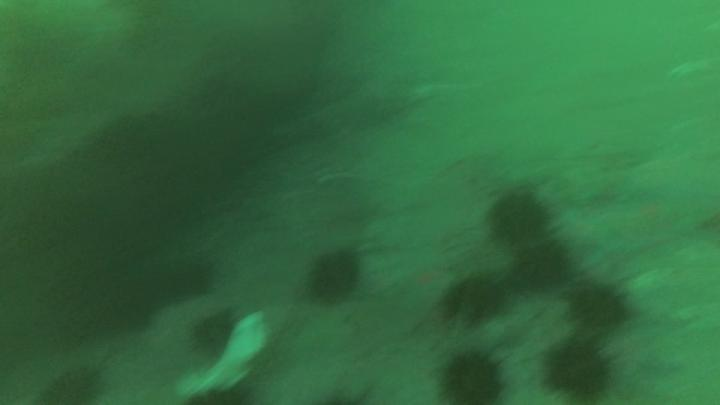echinus: (549, 347, 606, 405), (440, 280, 504, 326), (442, 355, 500, 405), (569, 283, 628, 330), (492, 197, 548, 246), (312, 253, 360, 304), (515, 245, 571, 287), (48, 372, 98, 404), (172, 267, 209, 299)
starfish: (400, 265, 454, 306)
